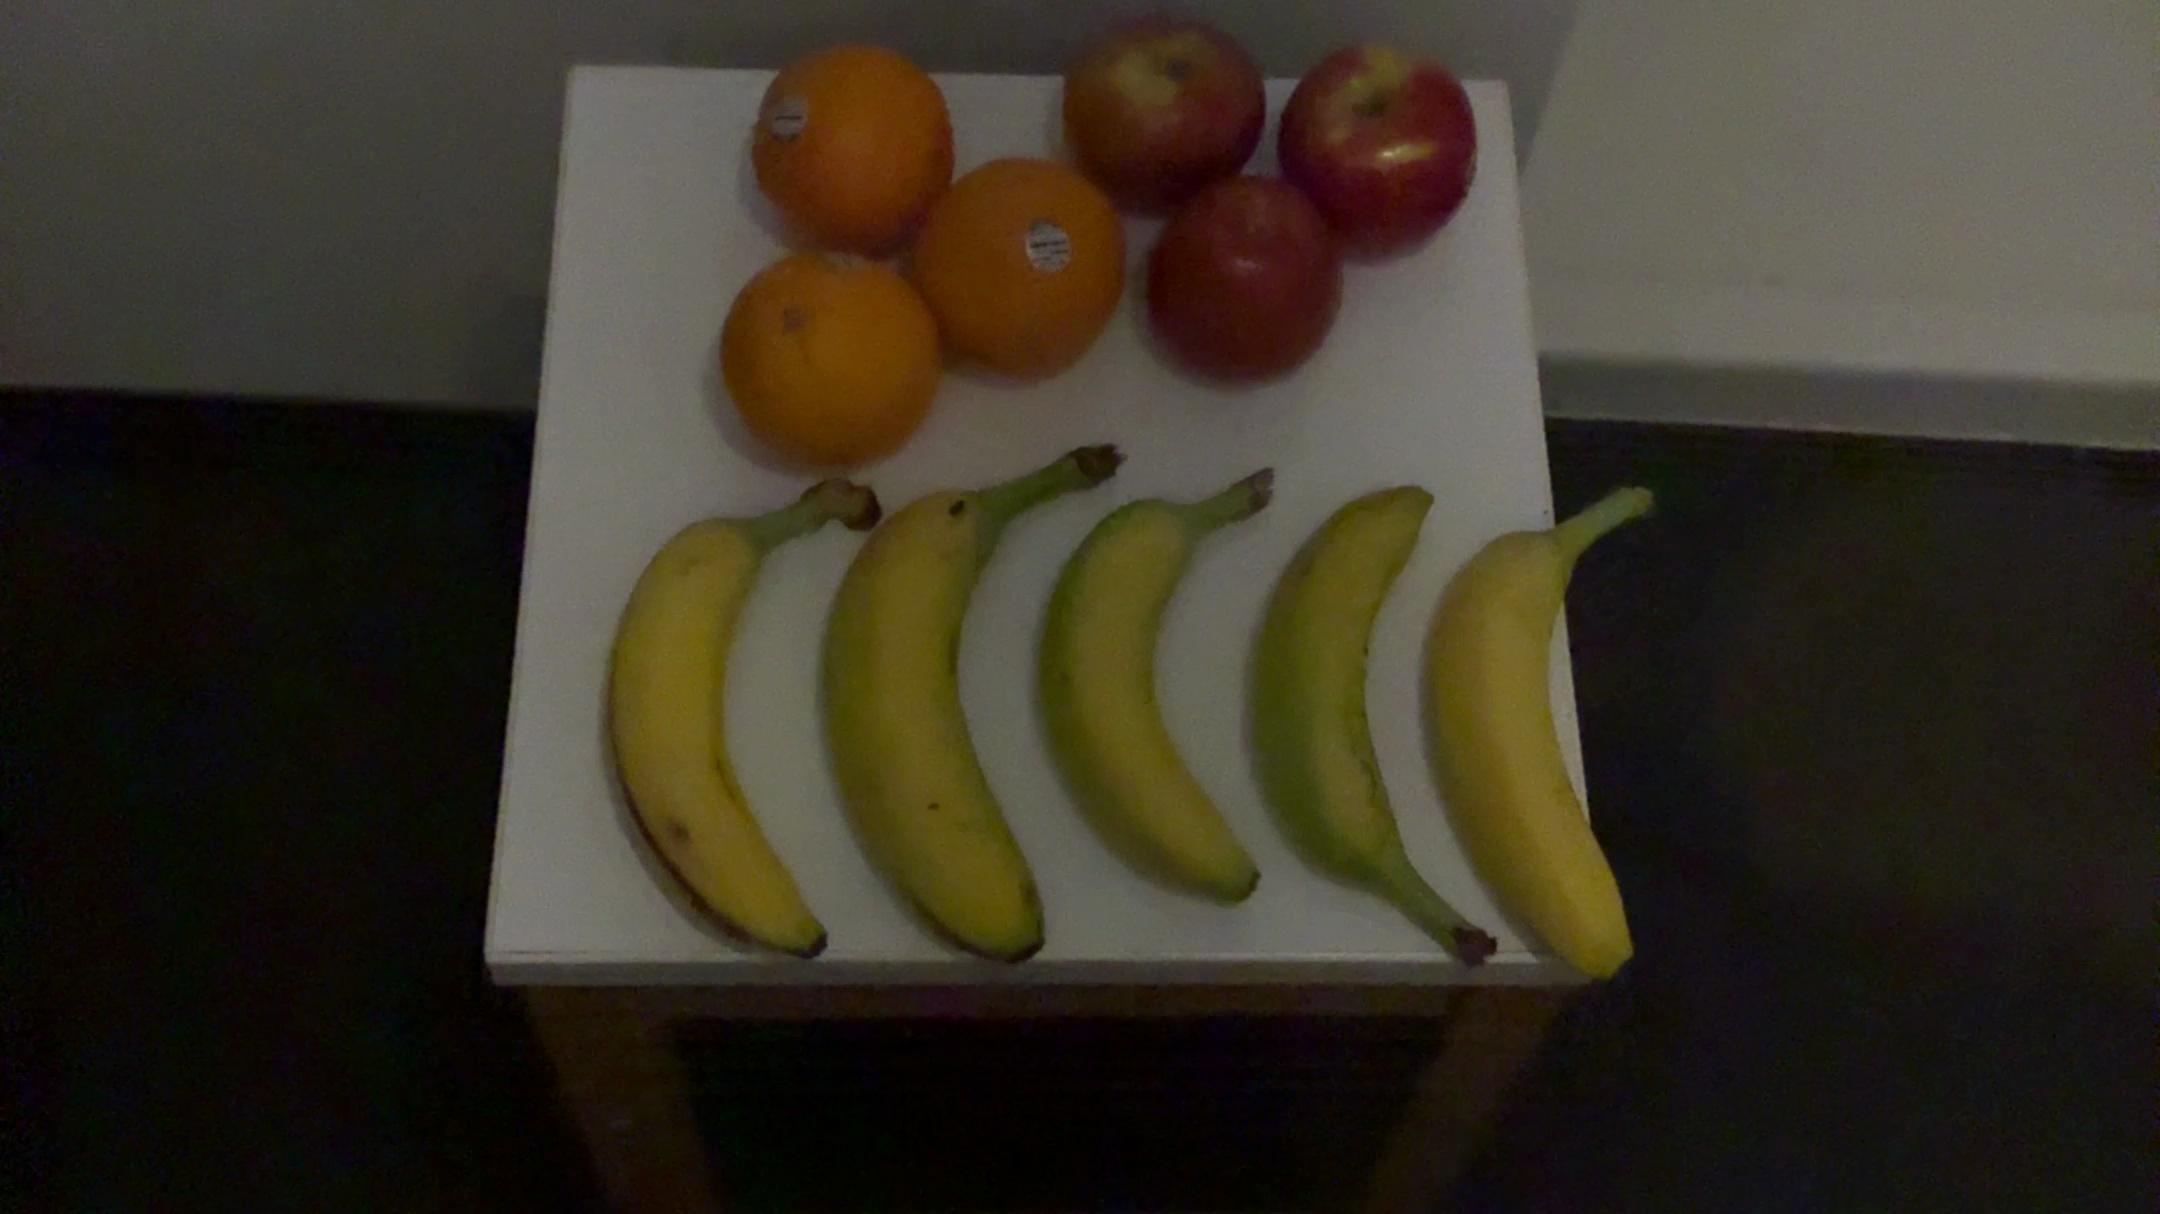apple: (1127, 169, 1351, 393), (1271, 45, 1475, 255), (1050, 3, 1252, 199)
banana: (819, 436, 1104, 974), (605, 467, 872, 978), (1251, 459, 1504, 980), (1433, 469, 1667, 1000), (1035, 447, 1286, 934)
orange: (697, 243, 949, 469), (737, 33, 955, 252), (915, 168, 1113, 381)
